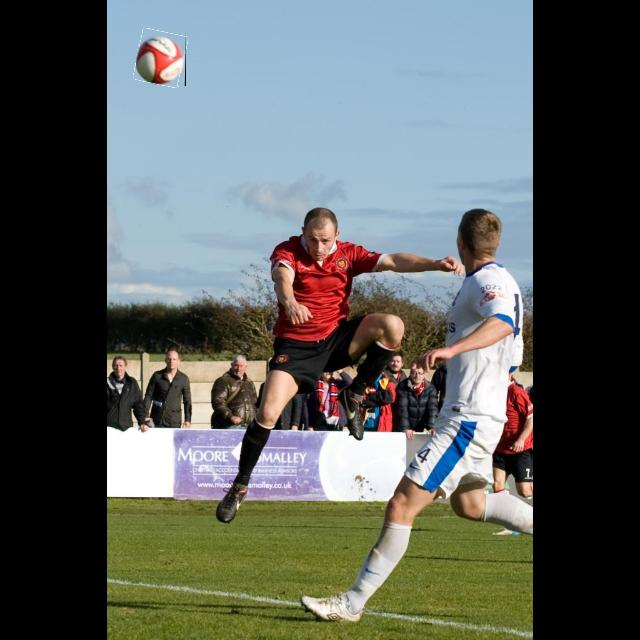Football: (136, 30, 186, 86)
